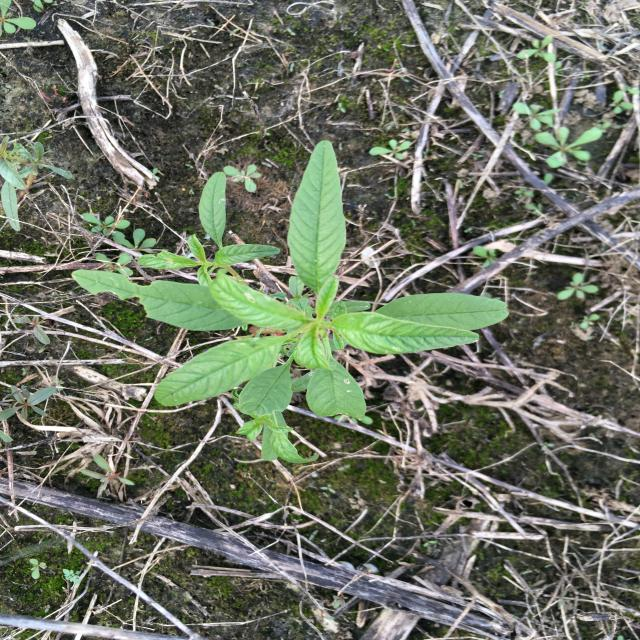Carpetweed: (514, 100, 602, 168), (77, 208, 160, 279), (364, 136, 416, 165), (518, 34, 560, 66), (554, 274, 600, 300)
Waterhemp: (69, 138, 512, 464), (0, 135, 76, 233)
